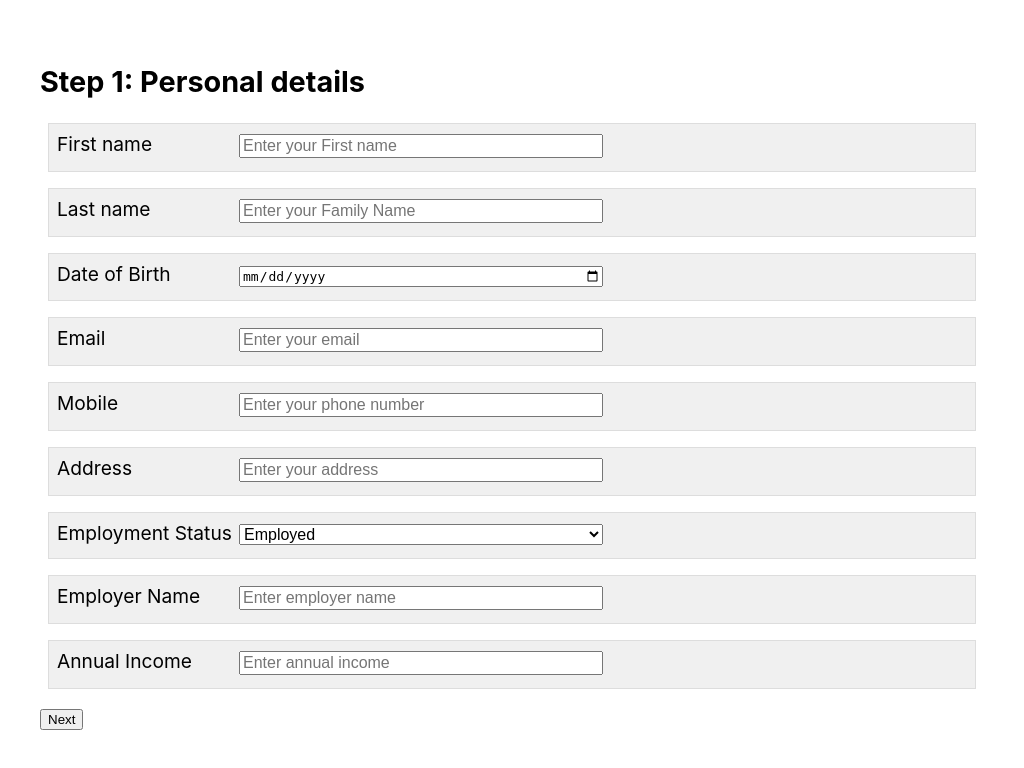
Test: Form Validation › should display validation messages for empty required fields
The image size is (1024, 768).
Note: Attempt to go to the next step without filling out the form
Click the button "Next".
click(62, 720)  # box [40, 709, 83, 730]
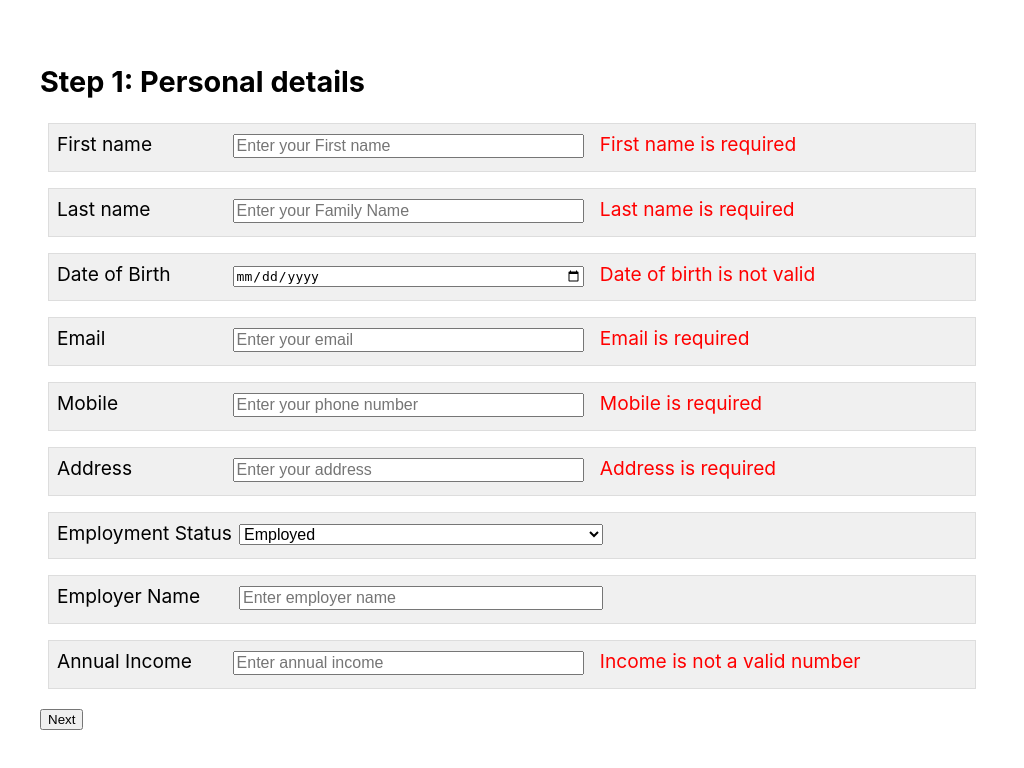
Now the text with class "error-message" reads "First name is required", box [600, 132, 796, 156]
Now the text with class "error-message" reads "Last name is required", box [600, 197, 795, 221]
Now the text with class "error-message" reads "Date of birth is not valid", box [600, 262, 815, 286]
